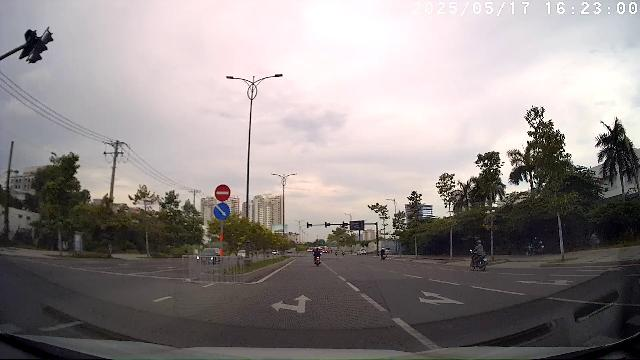102-cam-di-nguoc-chieu: (215, 184, 231, 202)
302a-huong-phai-di-vong-chuong-ngai-vat-1: (214, 202, 230, 220)
